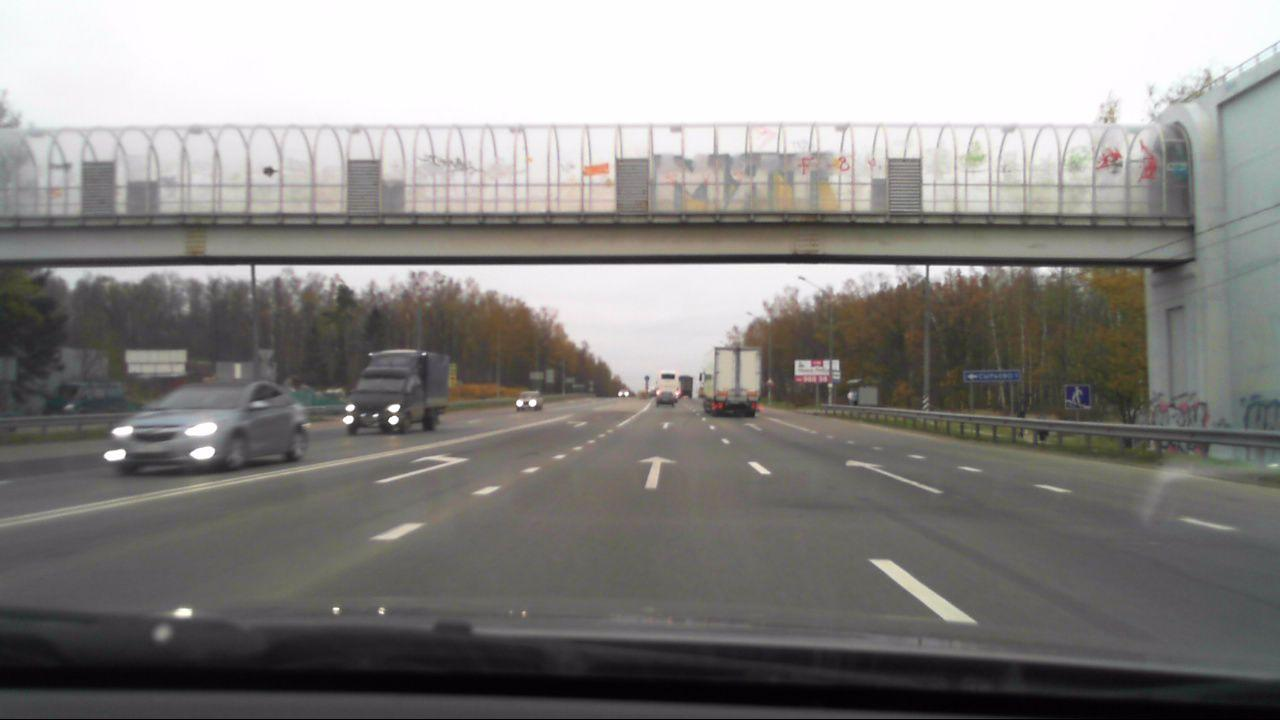6_7: (1065, 385, 1089, 409)
